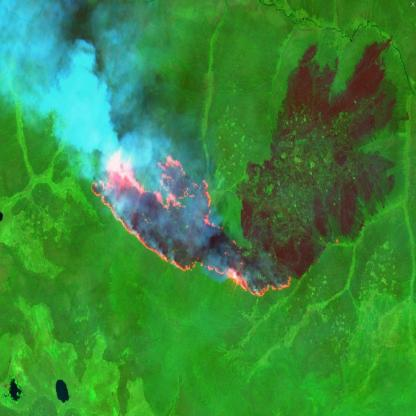fire: (90, 148, 293, 298)
